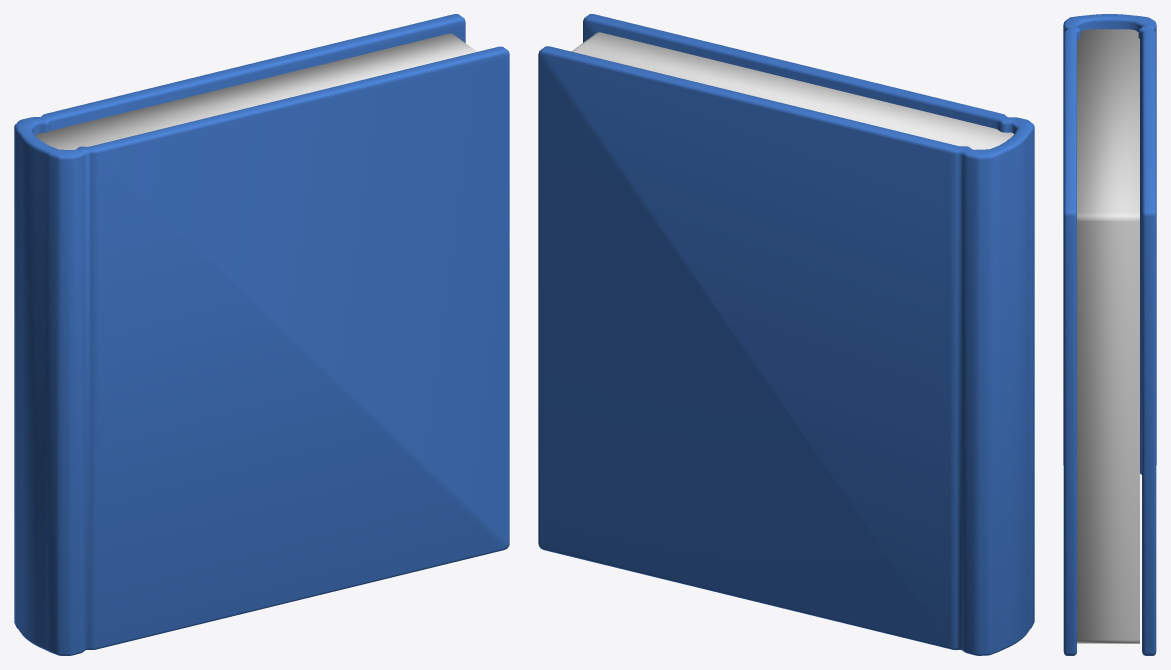
The model's file is book_sky.fbx.
3 views of the same model, side by side, from view 1: azimuth 30°, elevation 25°; view 2: azimuth 150°, elevation 25°; view 3: azimuth 270°, elevation 25° (orthographic). The views are drawn at different scales.
Visible parts, largest first — view 1: Cube.015; view 2: Cube.015; view 3: Cube.015.
Boxes of the visible parts, x1,y1,x2,y2 form: Cube.015: [14, 14, 509, 655]; Cube.015: [538, 14, 1034, 655]; Cube.015: [1063, 14, 1156, 655].
Size of the model in its own units: 313 by 327 by 61.89.
